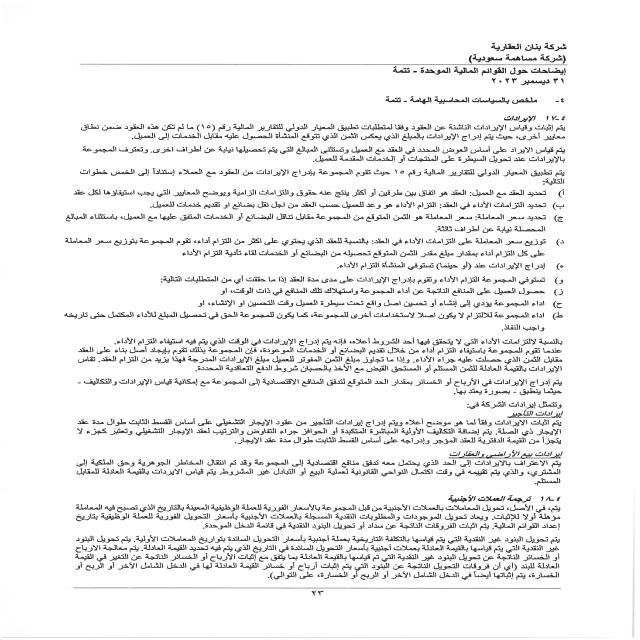notes: (370, 66, 576, 76)
text: (49, 92, 574, 605)
